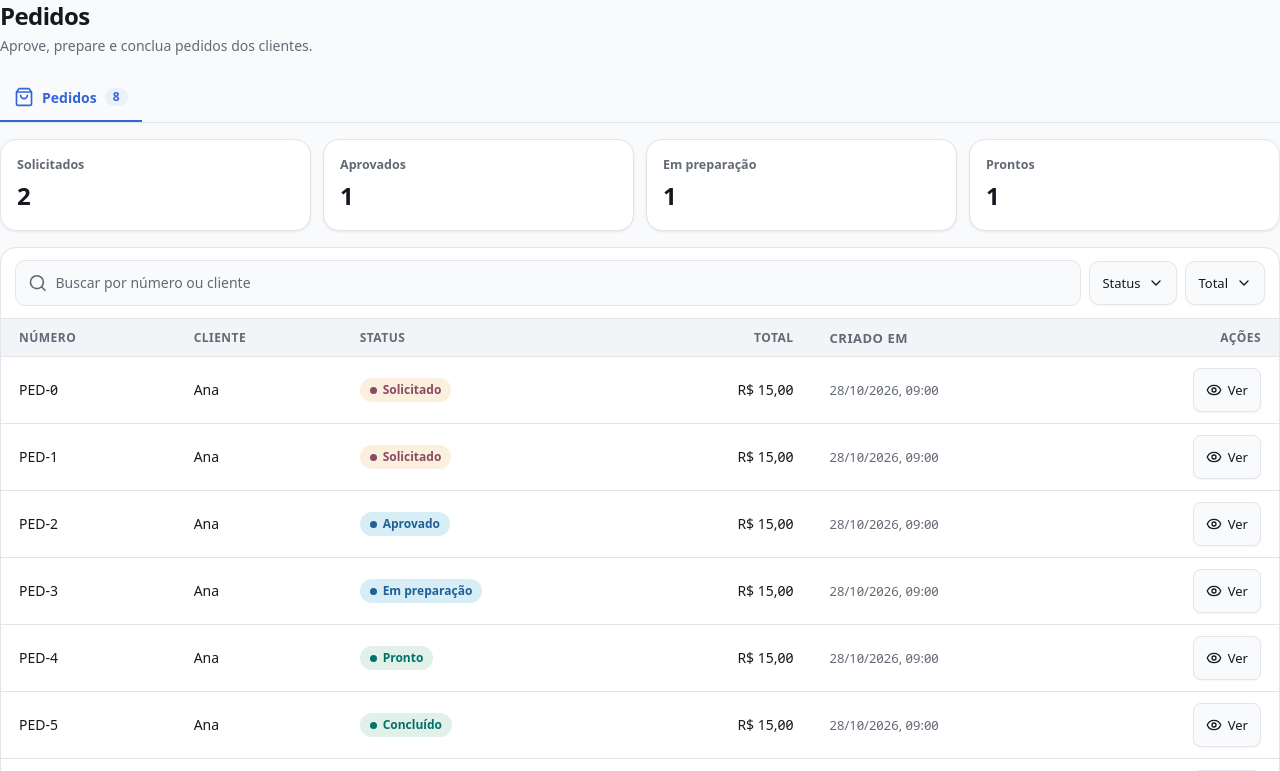
Test: staff catalog orders presentation › counts the four pending stages from loaded data and keeps KPIs stable while searching
Check: the text "PED-0" is shown, box [1, 357, 176, 424]
Check: the text "2" is shown, box [17, 179, 30, 212]
Type "PED-0" into the search field at (562, 283), box [56, 261, 1068, 305]
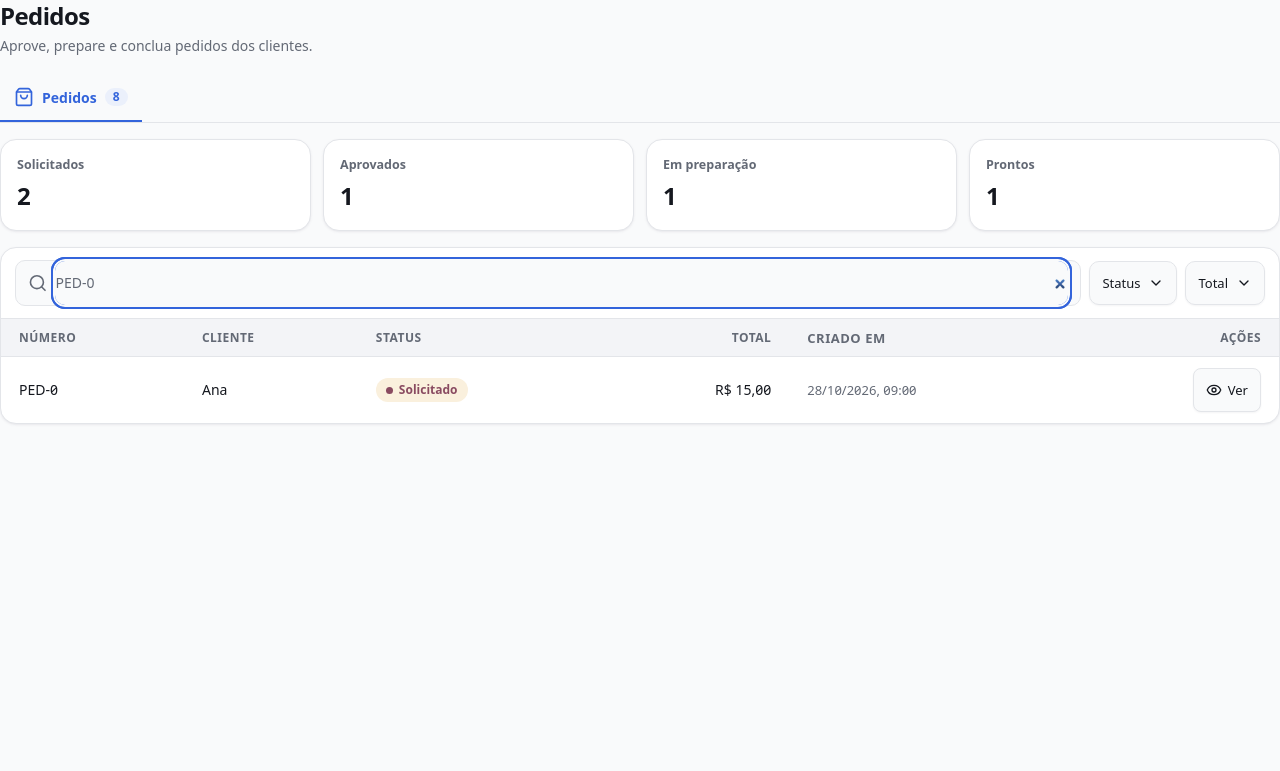
Check: the text "PED-0" is shown, box [1, 357, 184, 423]
Check: the text "PED-1" is gone
